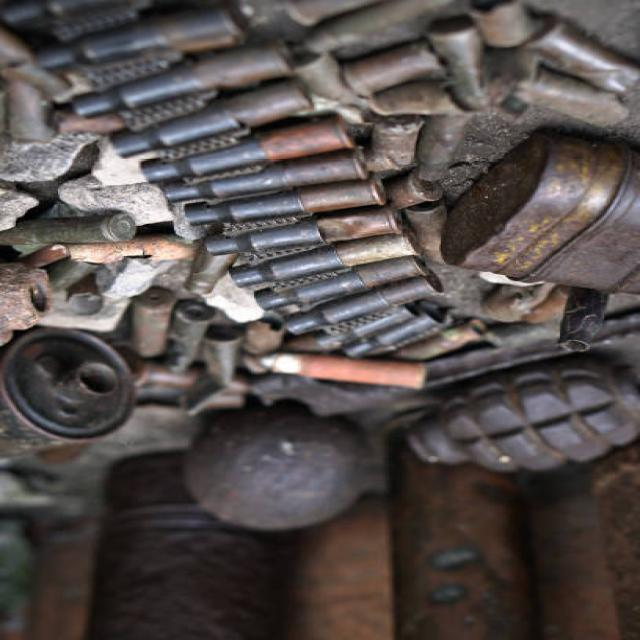grenade: (404, 358, 640, 483)
